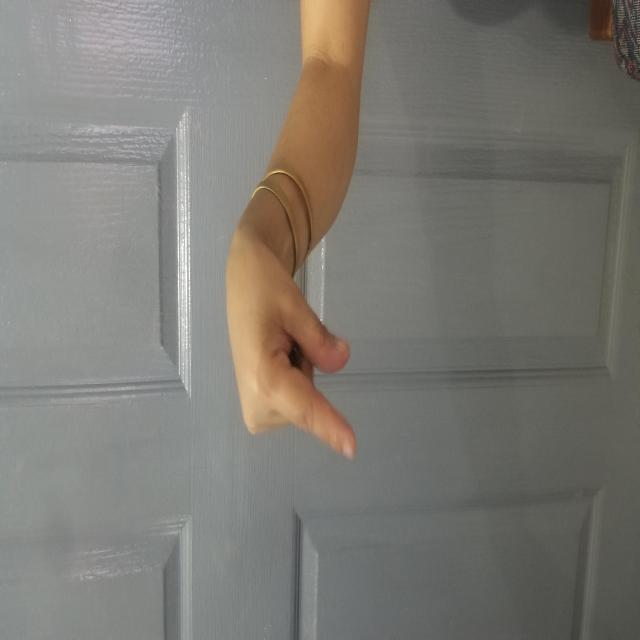Q: (176, 225, 405, 493)
